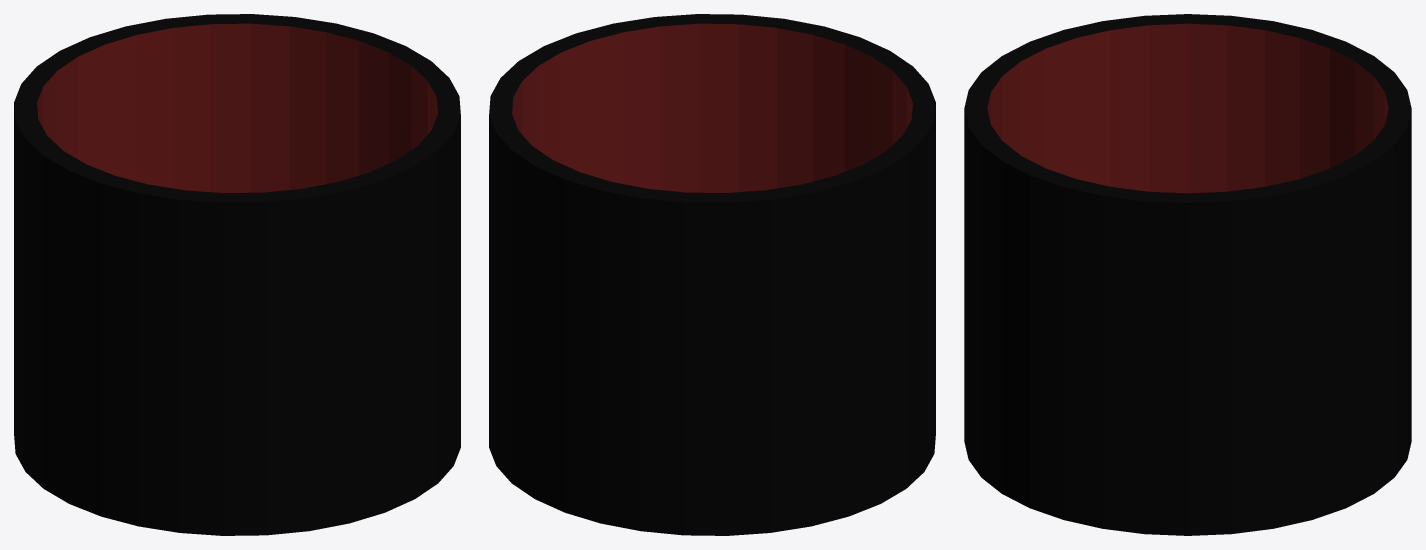
Rendered from cup.glb.
3 renders of one model, left to right at view 1: azimuth 30°, elevation 25°; view 2: azimuth 150°, elevation 25°; view 3: azimuth 270°, elevation 25°, orthographic.
Visible parts, largest first — view 1: cup; view 2: cup; view 3: cup.
Part boxes in pixels (left/top/right/bottom): cup: left=14, top=14, right=460, bottom=535; cup: left=489, top=14, right=935, bottom=535; cup: left=964, top=14, right=1411, bottom=535.
Bounding box in the file's own units: 3.78 × 3.1 × 3.78.
